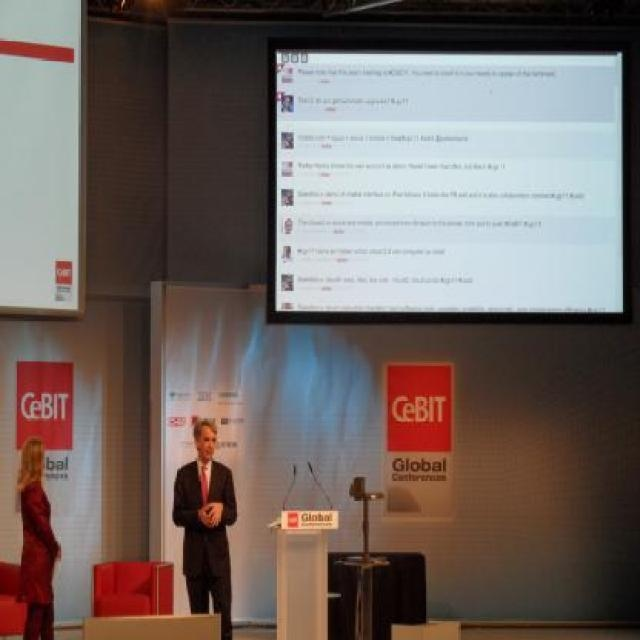obstacle: (174, 432, 232, 628), (14, 428, 63, 640)
